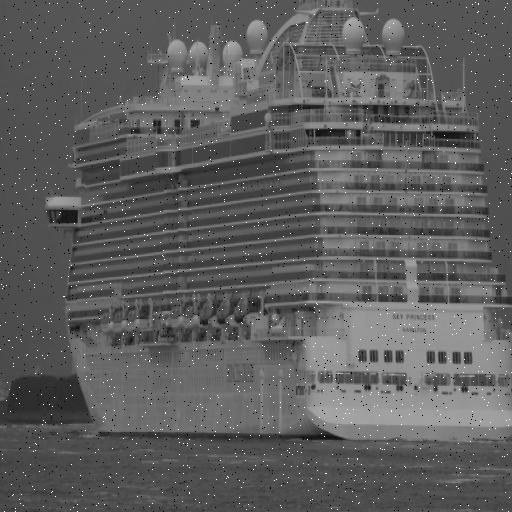cruises: (43, 1, 512, 453)
